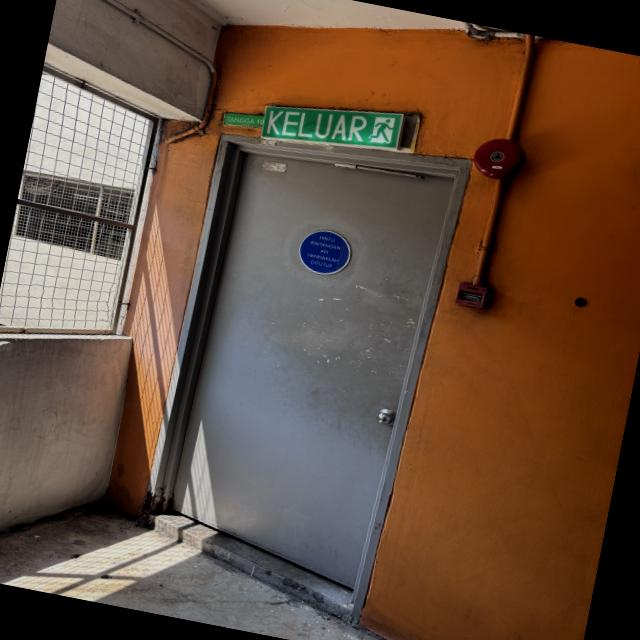door: (138, 130, 473, 629)
